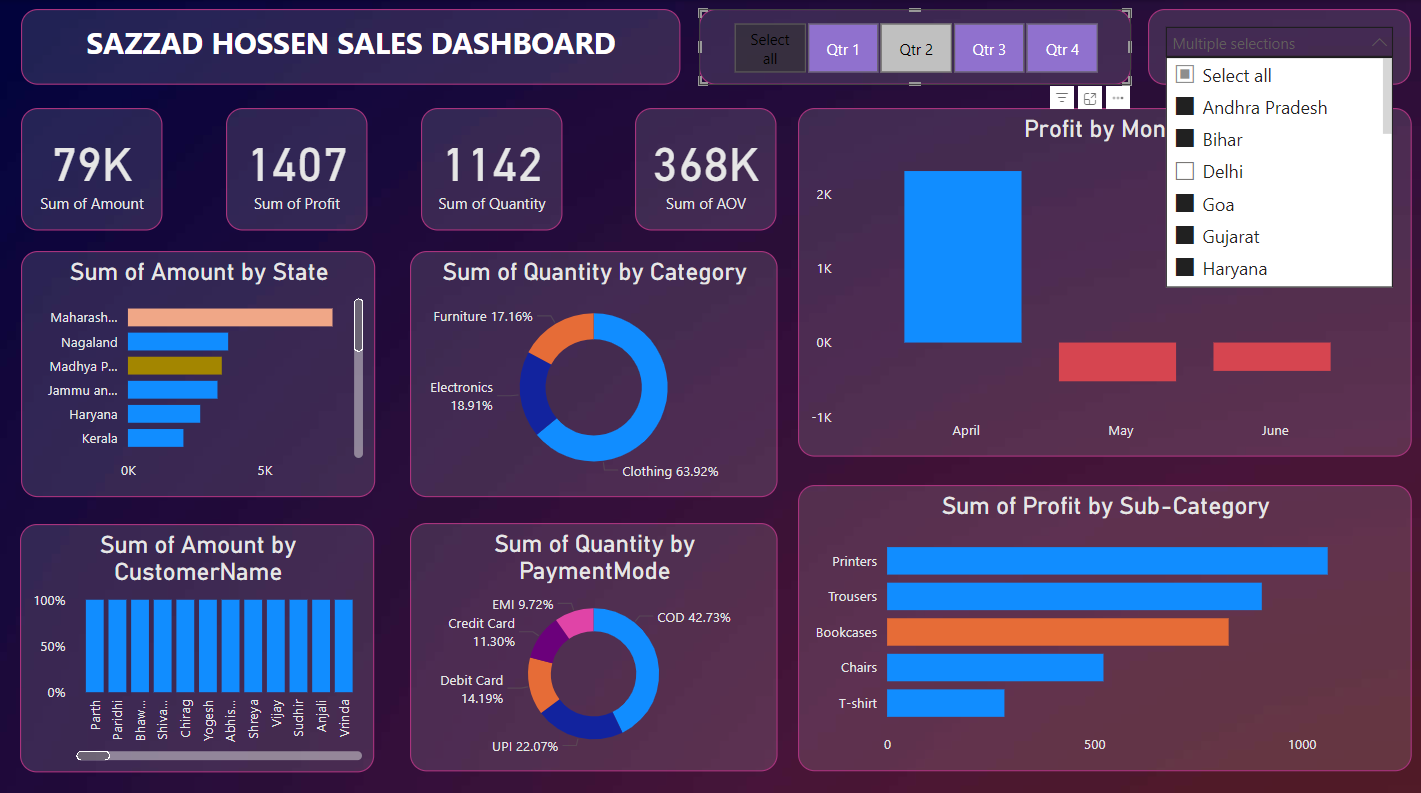

The page's visual inventory and layout, read from the dashboard file:
{"tool":"powerbi","page":{"name":"Page 1","canvas":[1280,720],"ordinal":0},"visuals":[{"type":"textbox","box":[20.4,7.8,592.3,68.1],"z":0},{"type":"columnChart","title":"Profit by Month","fields":{"Y":["Sum(Details.Profit)"],"Category":["Orders.Order Date.Variation.Date Hierarchy.Month"]},"box":[717.8,97.3,550.5,313.2],"z":1000},{"type":"barChart","fields":{"Category":["Details.Sub-Category"],"Y":["Sum(Details.Profit)"]},"box":[717.8,435.7,550.5,256.8],"z":2000},{"type":"donutChart","fields":{"Category":["Details.Category"],"Y":["Sum(Details.Quantity)"]},"box":[369.6,225.7,329.7,220.8],"z":3000},{"type":"donutChart","fields":{"Y":["Sum(Details.Quantity)"],"Category":["Details.PaymentMode"]},"box":[369.6,469.8,329.7,222.7],"z":4000},{"type":"card","fields":{"Values":["Sum(Details.Amount)"]},"box":[20.4,97.3,127.4,109.9],"z":5000},{"type":"card","fields":{"Values":["Sum(Details.Quantity)"]},"box":[379.3,97.3,127.4,109.9],"z":6000},{"type":"card","fields":{"Values":["Sum(Details.Profit)"]},"box":[204.3,97.3,127.4,109.9],"z":7000},{"type":"card","fields":{"Values":["Sum(Details.AOV)"]},"box":[571.9,97.3,127.4,109.9],"z":8000},{"type":"barChart","fields":{"Category":["Orders.State"],"Y":["Sum(Details.Amount)"]},"box":[20.4,225.7,318.1,220.8],"z":9000},{"type":"hundredPercentStackedColumnChart","fields":{"Y":["Sum(Details.Amount)"],"Category":["Orders.CustomerName"]},"box":[20,470,318,223],"z":10000},{"type":"slicer","fields":{"Values":["Orders.Order Date.Variation.Date Hierarchy.Quarter"]},"box":[629.3,7.8,388.1,68.1],"z":11001},{"type":"slicer","fields":{"Values":["Orders.State"]},"box":[1032,7.8,236.4,68.1],"z":11002}]}

Visuals, with their boxes on the page's 1280x720 design canvas (x1, y1, x2, y2). These are canvas units, not pixel positions in the 1421x793 screenshot, which may show the page scaled, cropped or inside an application window:
textbox: l=20, t=8, r=613, b=76
"Profit by Month" columnChart: l=718, t=97, r=1268, b=410
barChart - Details.Sub-Category x Sum(Details.Profit): l=718, t=436, r=1268, b=692
donutChart - Details.Category x Sum(Details.Quantity): l=370, t=226, r=699, b=446
donutChart - Sum(Details.Quantity) x Details.PaymentMode: l=370, t=470, r=699, b=692
card - Sum(Details.Amount): l=20, t=97, r=148, b=207
card - Sum(Details.Quantity): l=379, t=97, r=507, b=207
card - Sum(Details.Profit): l=204, t=97, r=332, b=207
card - Sum(Details.AOV): l=572, t=97, r=699, b=207
barChart - Orders.State x Sum(Details.Amount): l=20, t=226, r=338, b=446
hundredPercentStackedColumnChart - Sum(Details.Amount) x Orders.CustomerName: l=20, t=470, r=338, b=693
slicer - Orders.Order Date.Variation.Date Hierarchy.Quarter: l=629, t=8, r=1017, b=76
slicer - Orders.State: l=1032, t=8, r=1268, b=76
